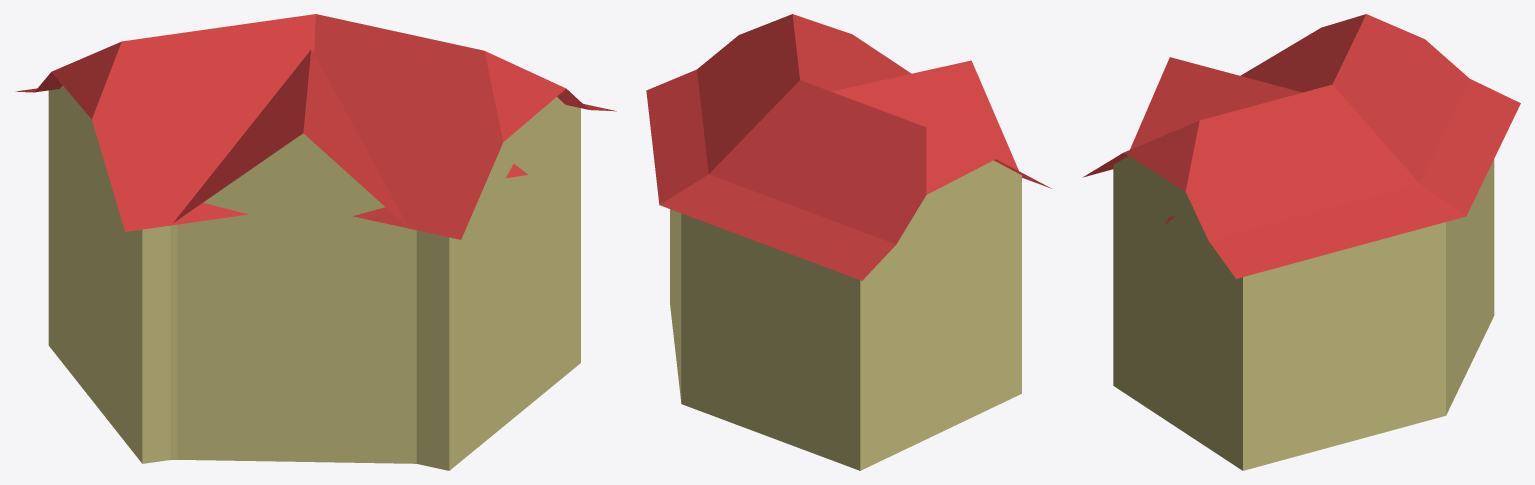
The picture shows the model from 3 angles, left to right: view 1: azimuth 30°, elevation 25°; view 2: azimuth 150°, elevation 25°; view 3: azimuth 270°, elevation 25°; orthographic projection. The views are drawn at different scales.
Size of the model in its own units: 15.66 by 14.51 by 10.96.
